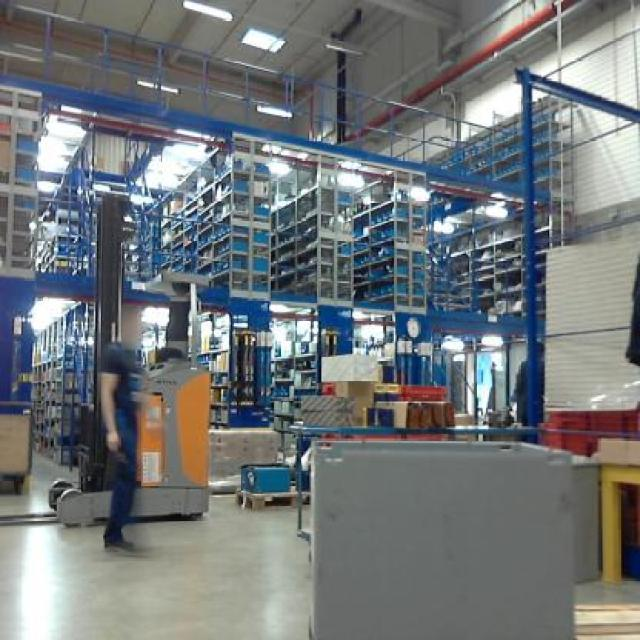ground: (0, 490, 309, 638)
pallet: (227, 486, 312, 515)
